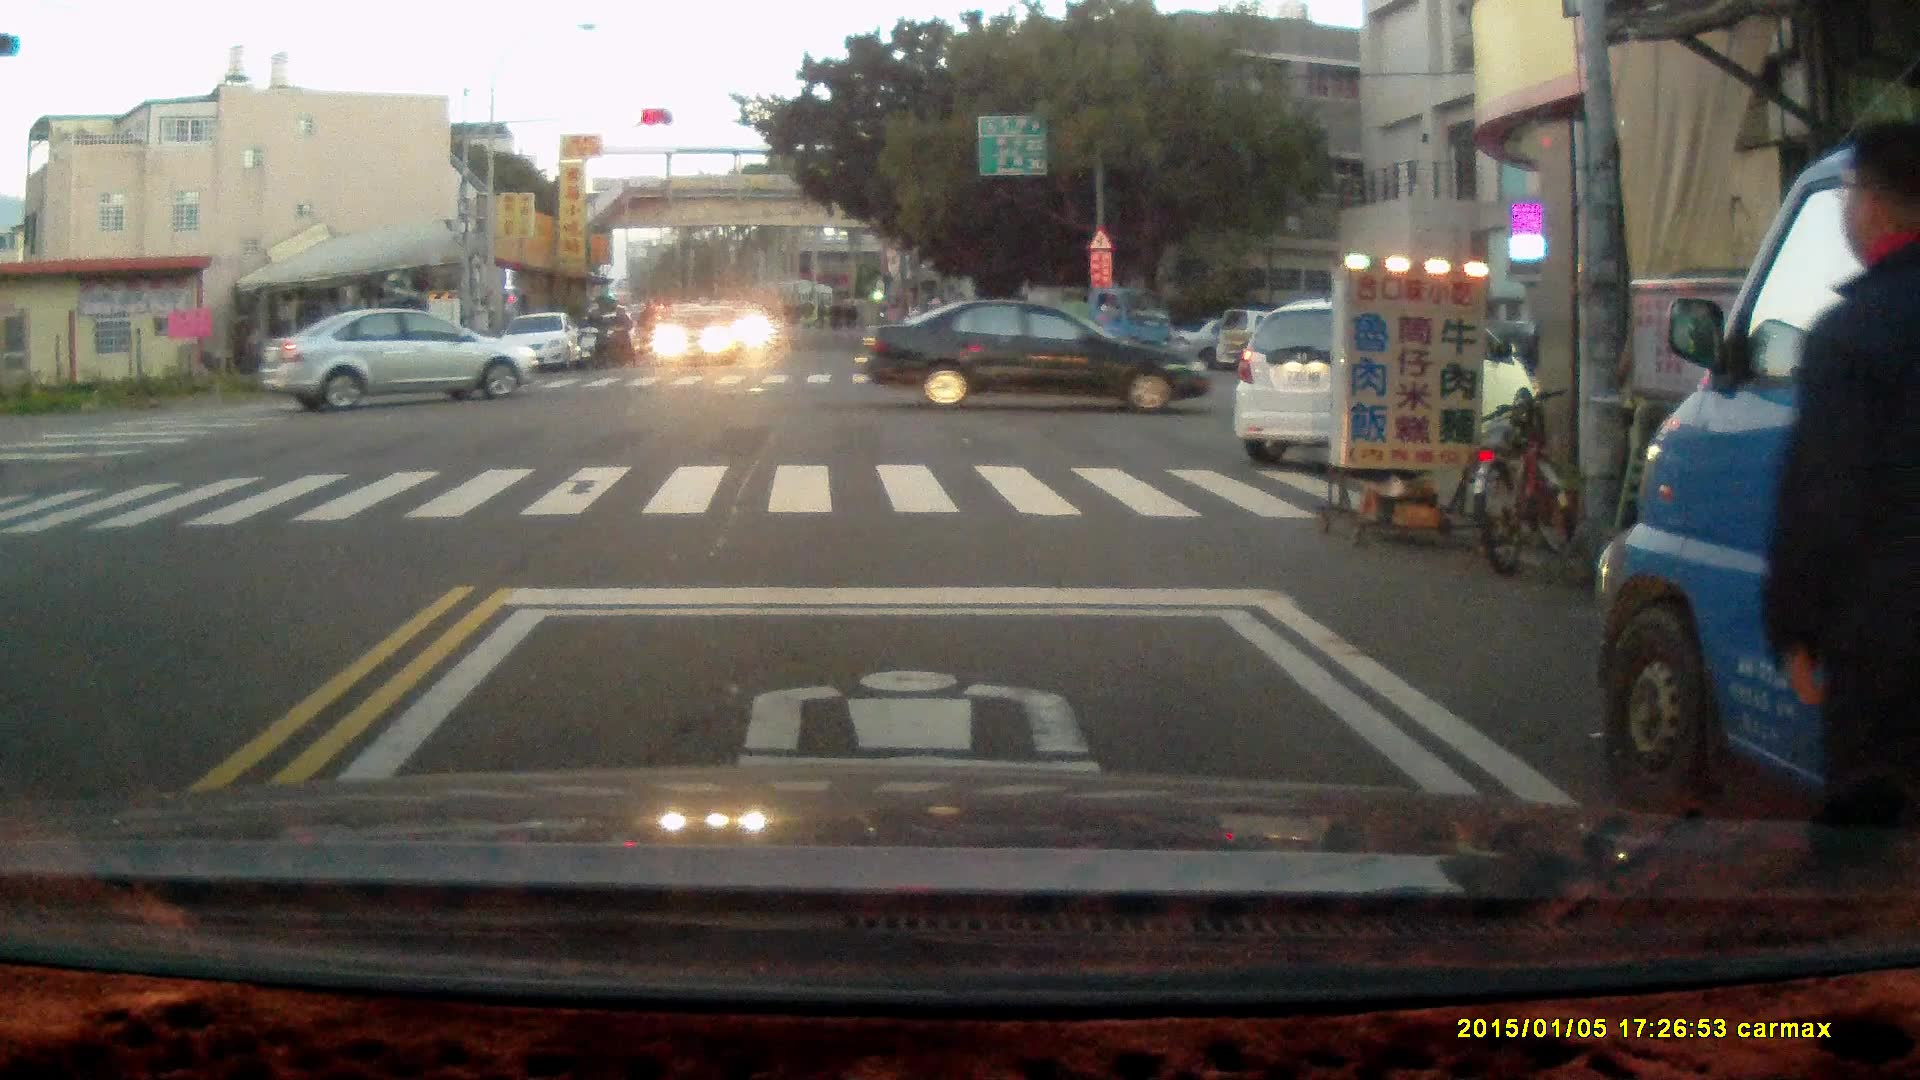pedestrian: (1757, 114, 1920, 818)
rider: (576, 301, 608, 367), (603, 301, 632, 365)
vehicle: (1598, 132, 1920, 844), (1233, 296, 1533, 459), (858, 297, 1219, 412), (261, 308, 537, 410), (1002, 284, 1179, 367), (496, 313, 586, 377)
